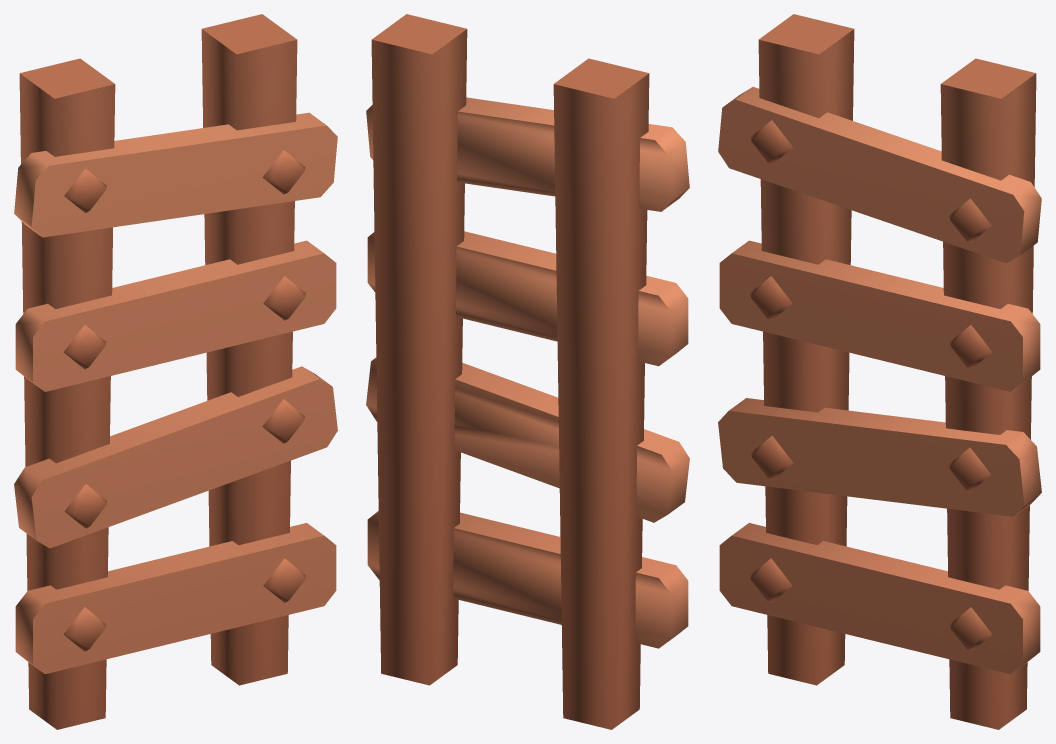
File: ladder.obj
3 views of the same model, side by side, from view 1: azimuth 30°, elevation 25°; view 2: azimuth 150°, elevation 25°; view 3: azimuth 330°, elevation 25° (orthographic).
Visible parts, largest first — view 1: ladder; view 2: ladder; view 3: ladder.
Part boxes in pixels (x1,y1,x2,y2): ladder: (14, 14, 337, 729); ladder: (366, 14, 689, 729); ladder: (718, 14, 1041, 729).
Bounding box in the file's own units: 0.5049 × 1 × 0.1375.
Materials: 1 (1 with a texture image).
